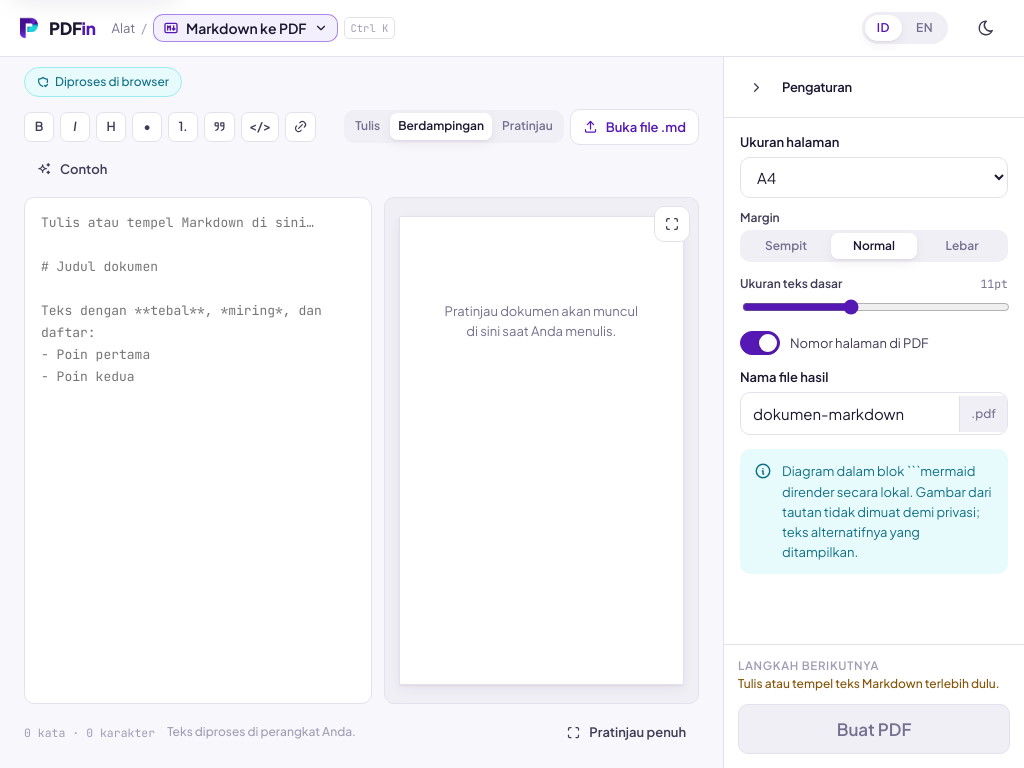
Test: Markdown to PDF tool › applies bold formatting from the toolbar to the selection
Replace the text in the text box named "editor markdown" with "kata penting" at coordinates (198, 450), box [24,197,372,704]
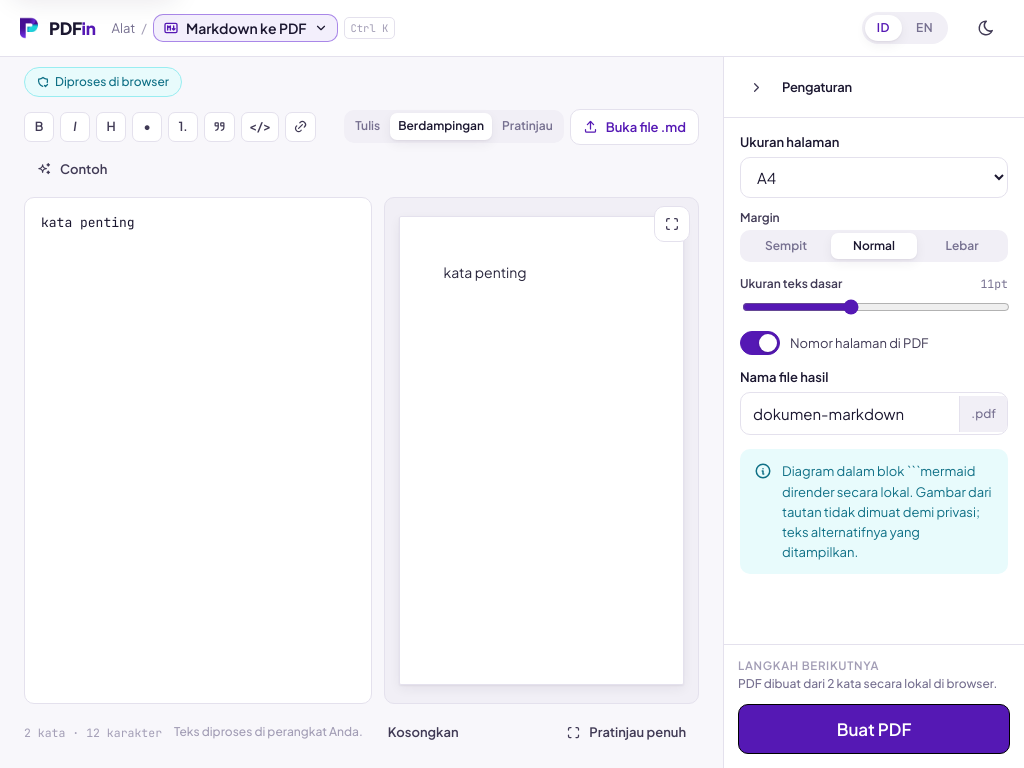
Click the button named "tebal (ctrl+b)" at coordinates (39, 127), box [24,112,54,142]
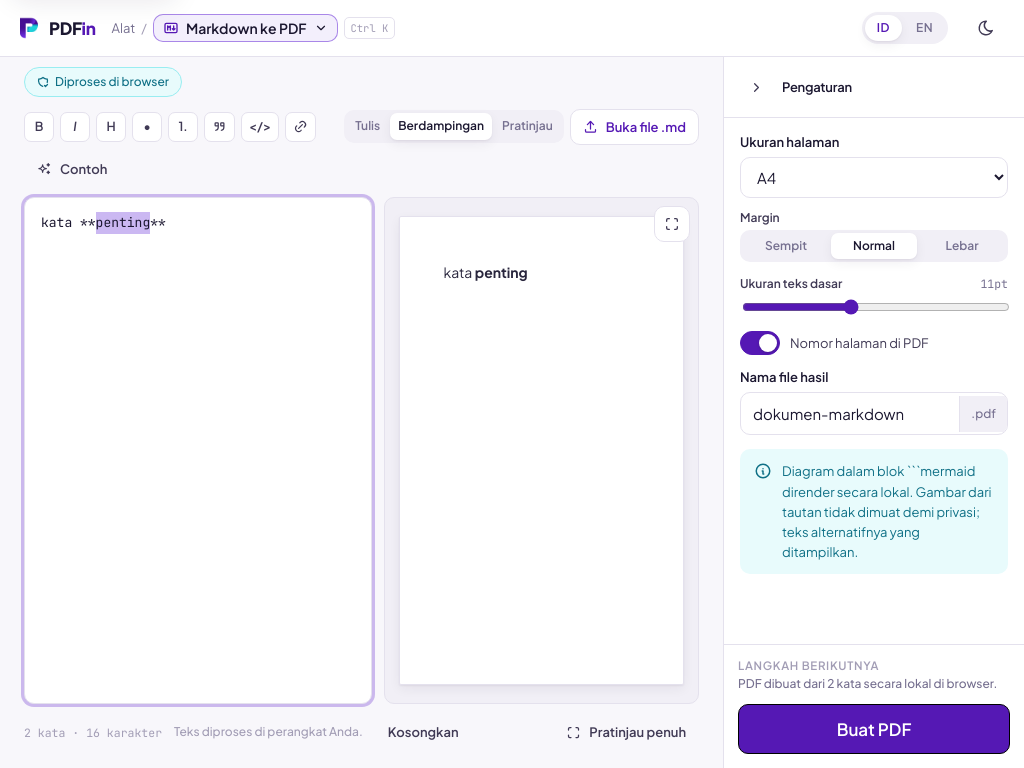
Expected: the text box named "editor markdown" holds "kata **penting**", [24,197,372,704]
